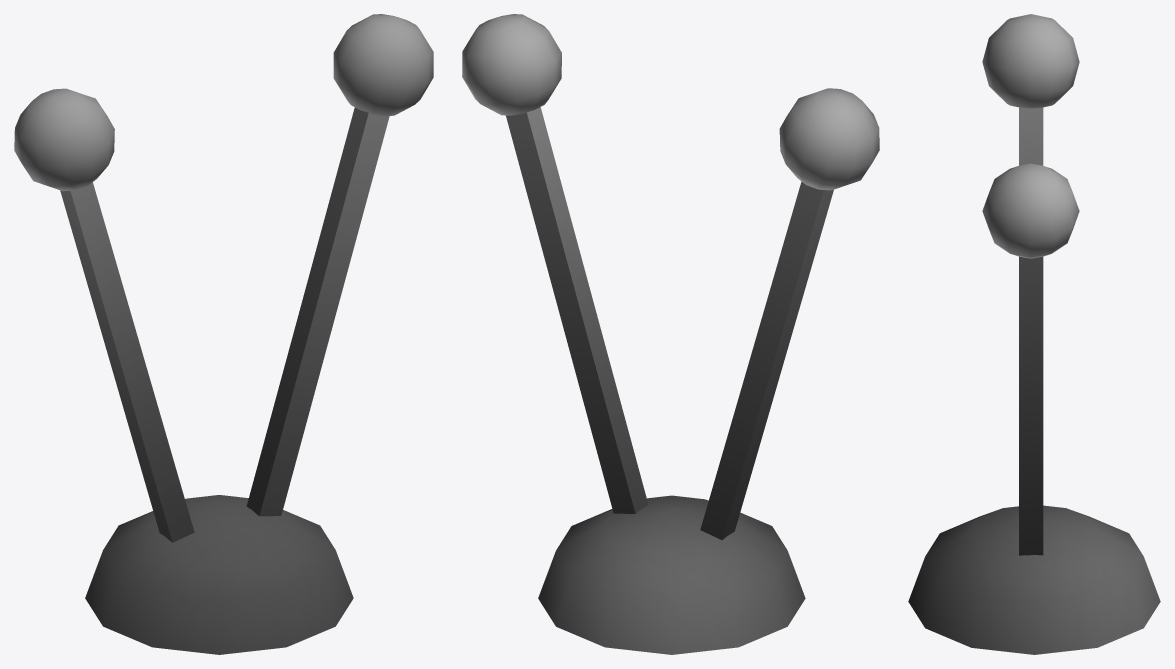
Rendered from Antena_3.obj.
3 renders of one model, left to right at view 1: azimuth 30°, elevation 25°; view 2: azimuth 150°, elevation 25°; view 3: azimuth 270°, elevation 25°, orthographic. The views are drawn at different scales.
Parts seen in each view (by area): view 1: Antena3; view 2: Antena3; view 3: Antena3.
Part boxes in pixels (x1,y1,x2,y2): Antena3: [14, 14, 433, 654]; Antena3: [462, 14, 879, 654]; Antena3: [908, 14, 1160, 654].
Size of the model in its own units: 10.71 by 14.68 by 6.14.
Materials: 1 (1 with a texture image).
